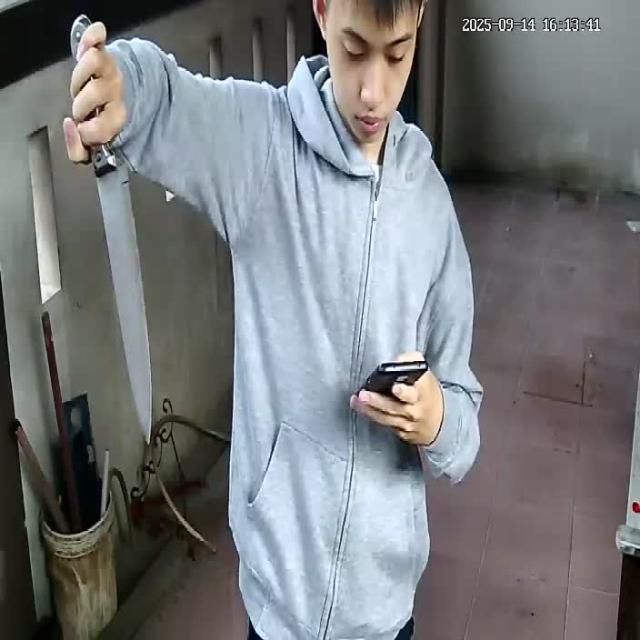senjata_tajam: (91, 145, 156, 451)
